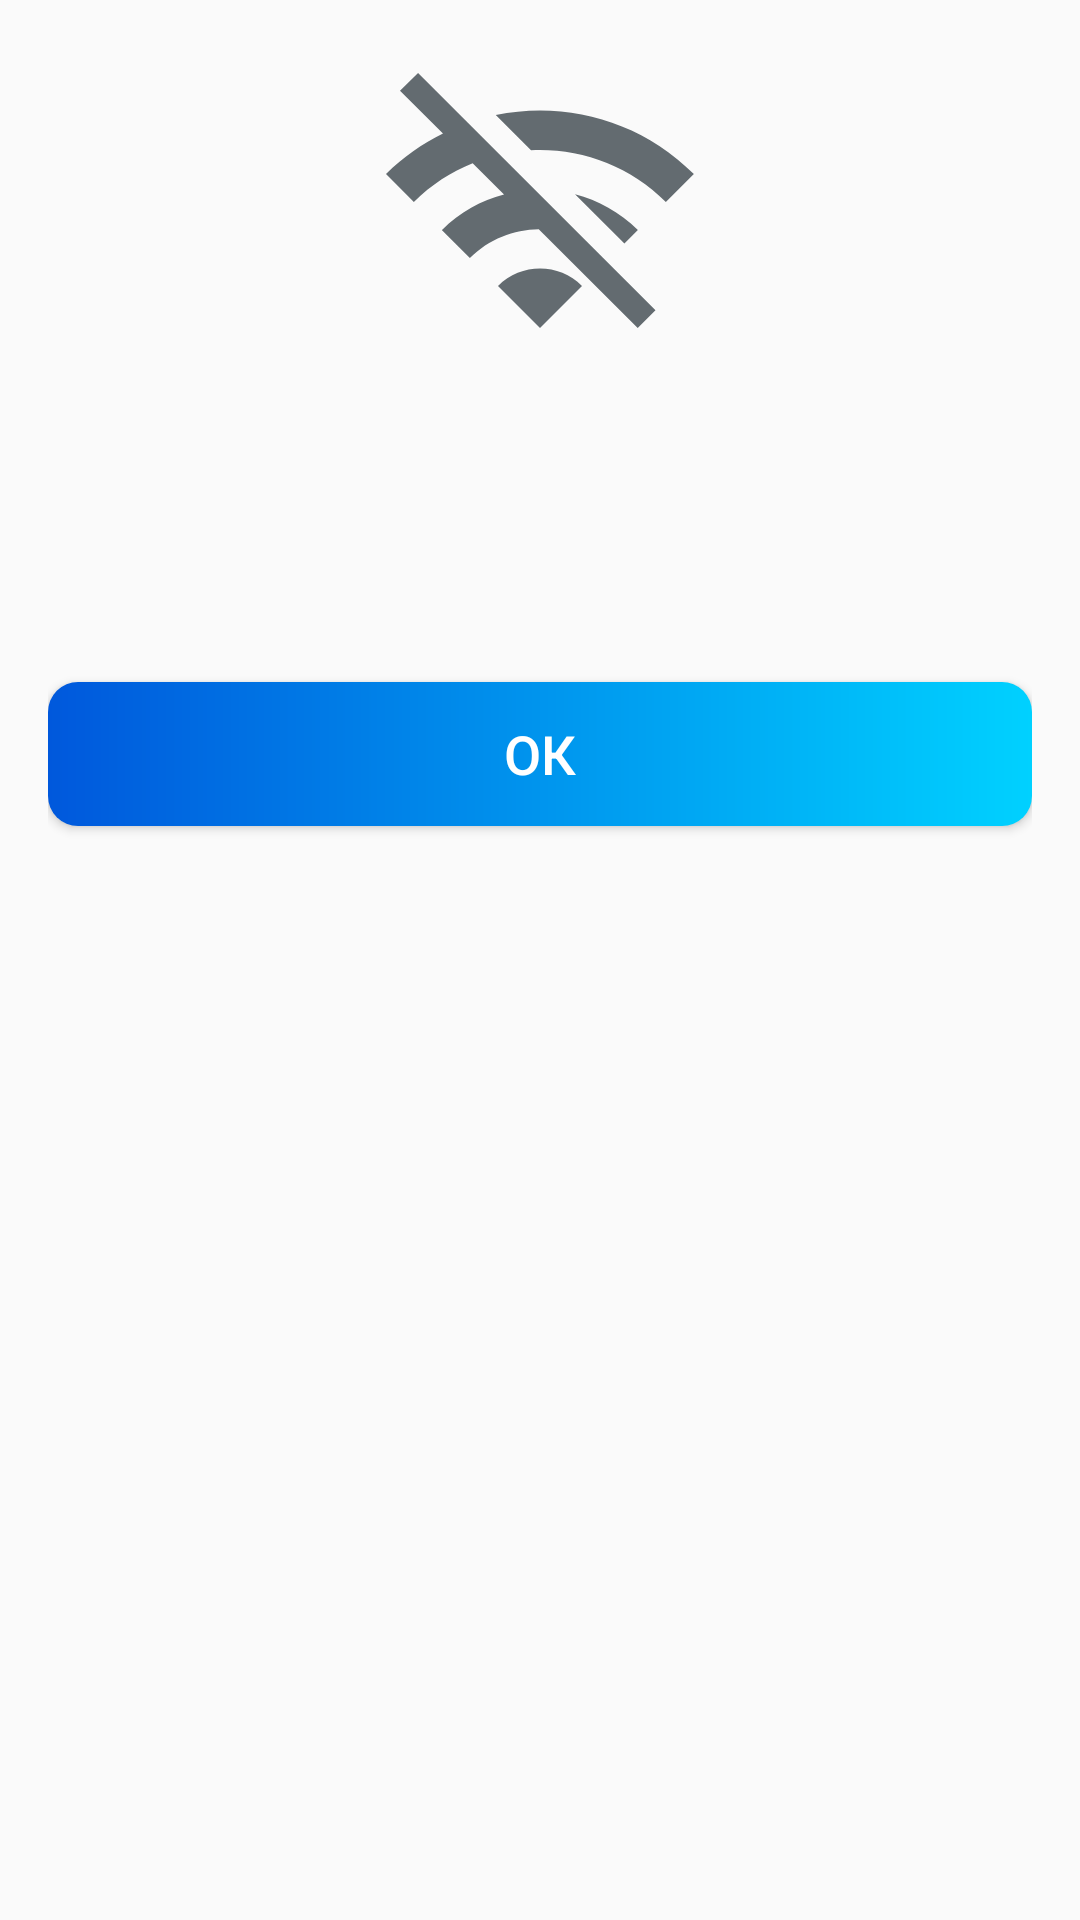

Locate icon controls on the screen. Image size 1080 x 1920, boxes as (x1, y1, x2, y2).
no connection: (386, 73, 694, 328)
